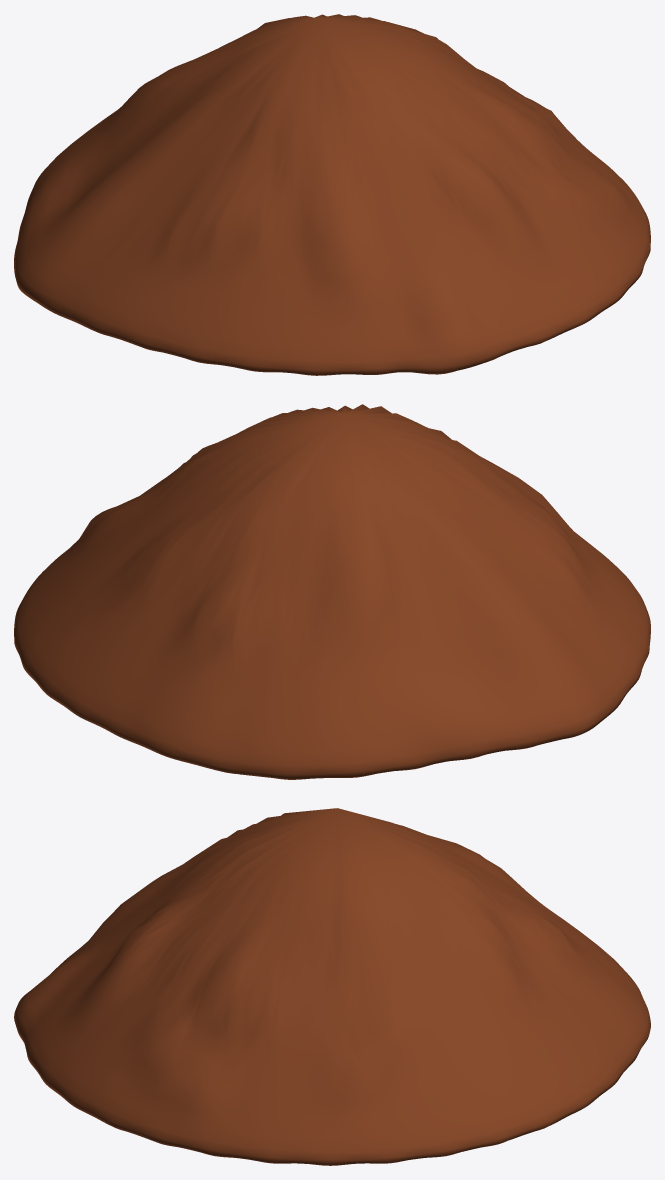
Rendered from dirt mound.fbx.
The picture shows the model from 3 angles, top to bottom: view 1: azimuth 30°, elevation 25°; view 2: azimuth 150°, elevation 25°; view 3: azimuth 270°, elevation 25°; orthographic projection. The views are drawn at different scales.
Visible parts, largest first — view 1: Cylinder; view 2: Cylinder; view 3: Cylinder.
Part boxes in pixels (x1,y1,x2,y2): Cylinder: (14, 14, 650, 375); Cylinder: (14, 404, 650, 779); Cylinder: (14, 808, 650, 1165).
Size of the model in its own units: 195 by 78.65 by 197.
